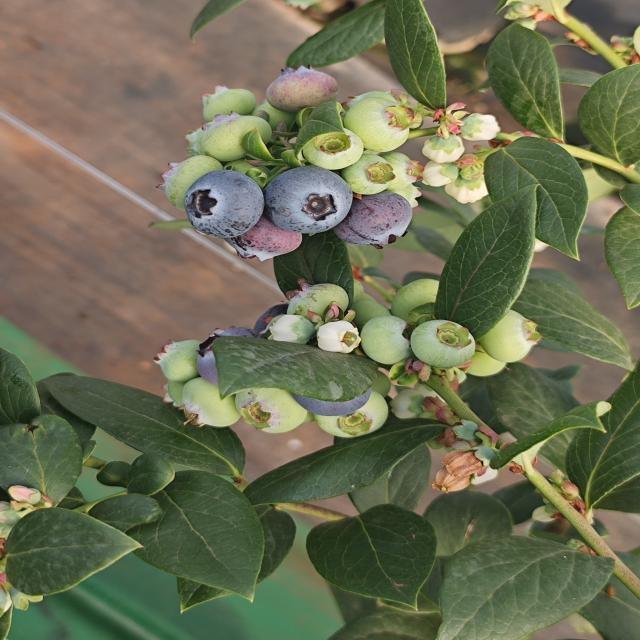ripe: (262, 164, 356, 237), (180, 168, 266, 241), (328, 188, 417, 254), (198, 322, 264, 388), (282, 377, 378, 421), (222, 215, 305, 262), (244, 298, 298, 338)
